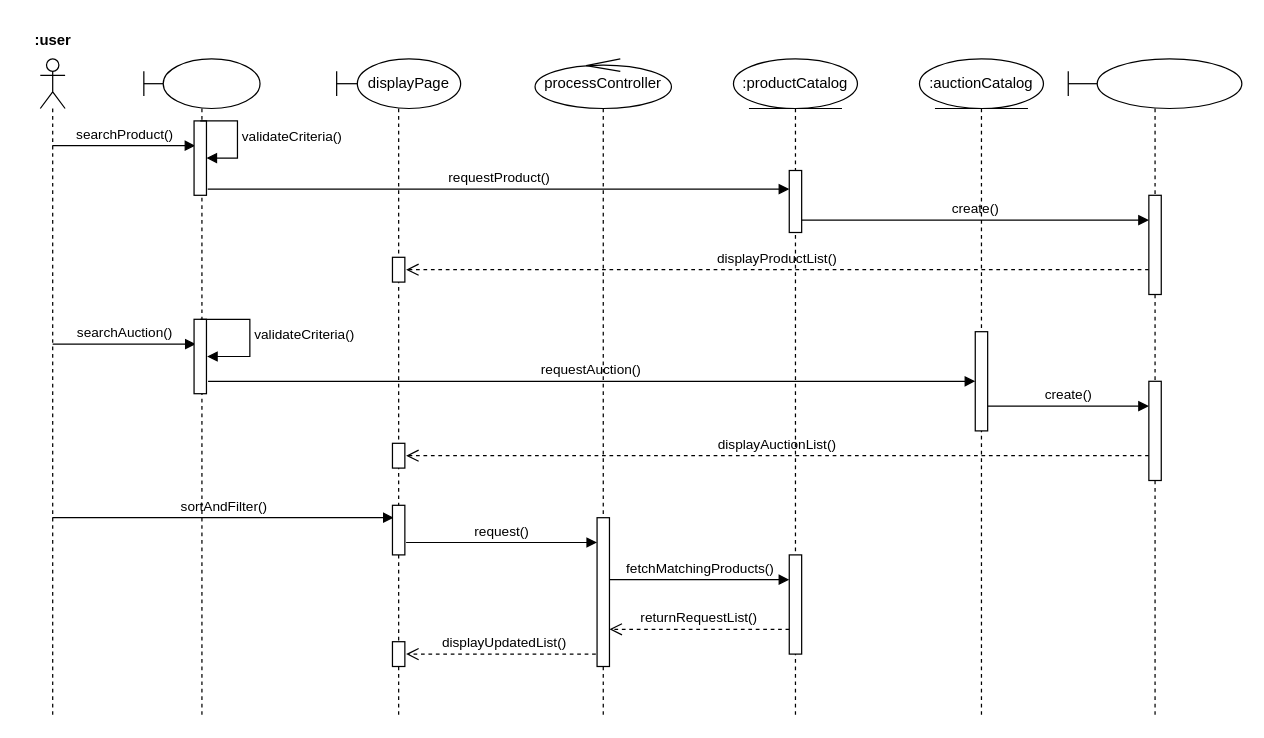
Some shapes in this 1264 by 738 pixel diagram are drawn without their labels. Each missing label, with the box of its shape:
searchBar: (143, 58, 260, 716)
searchBarResult: (1067, 58, 1242, 716)
